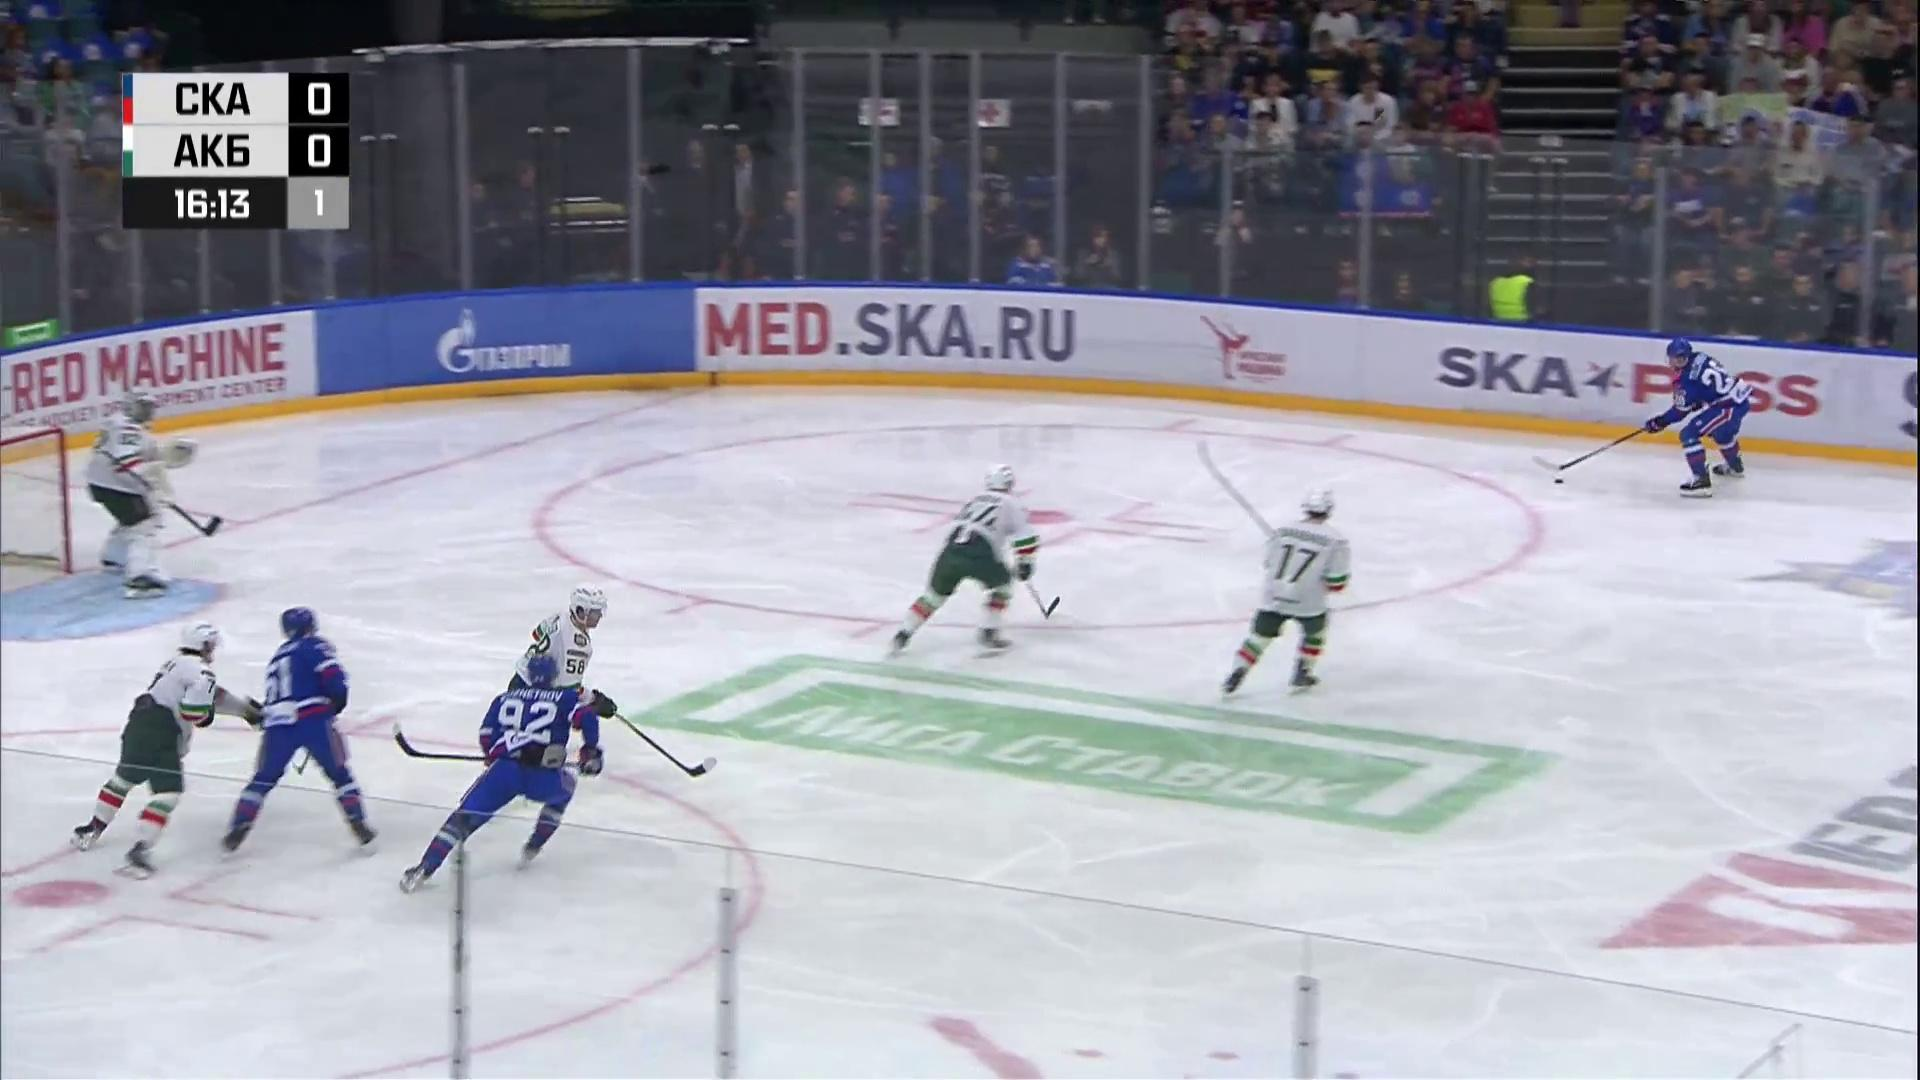ball: (1553, 479, 1564, 484)
